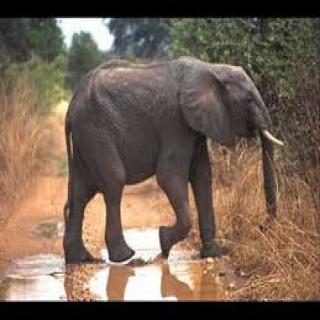Elephant: (59, 55, 293, 268)
